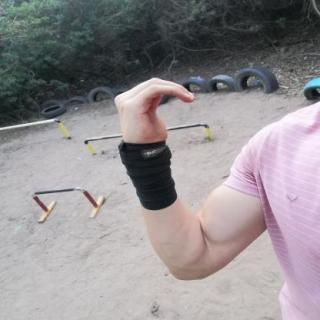HAA: (100, 70, 204, 160)
